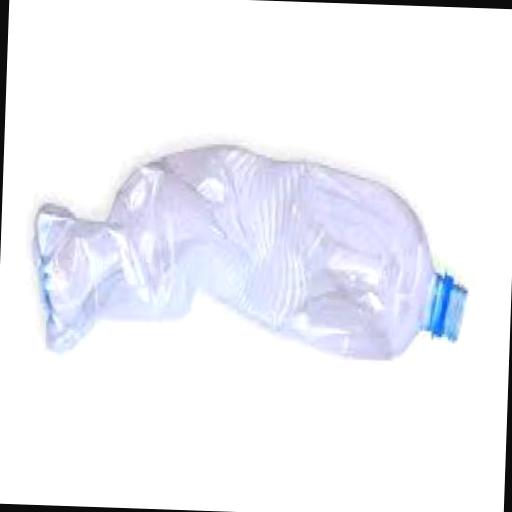plastic: (26, 138, 471, 372)
